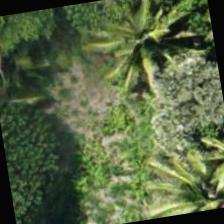Kelapa_Sawit: (92, 0, 195, 87), (164, 154, 223, 217)
